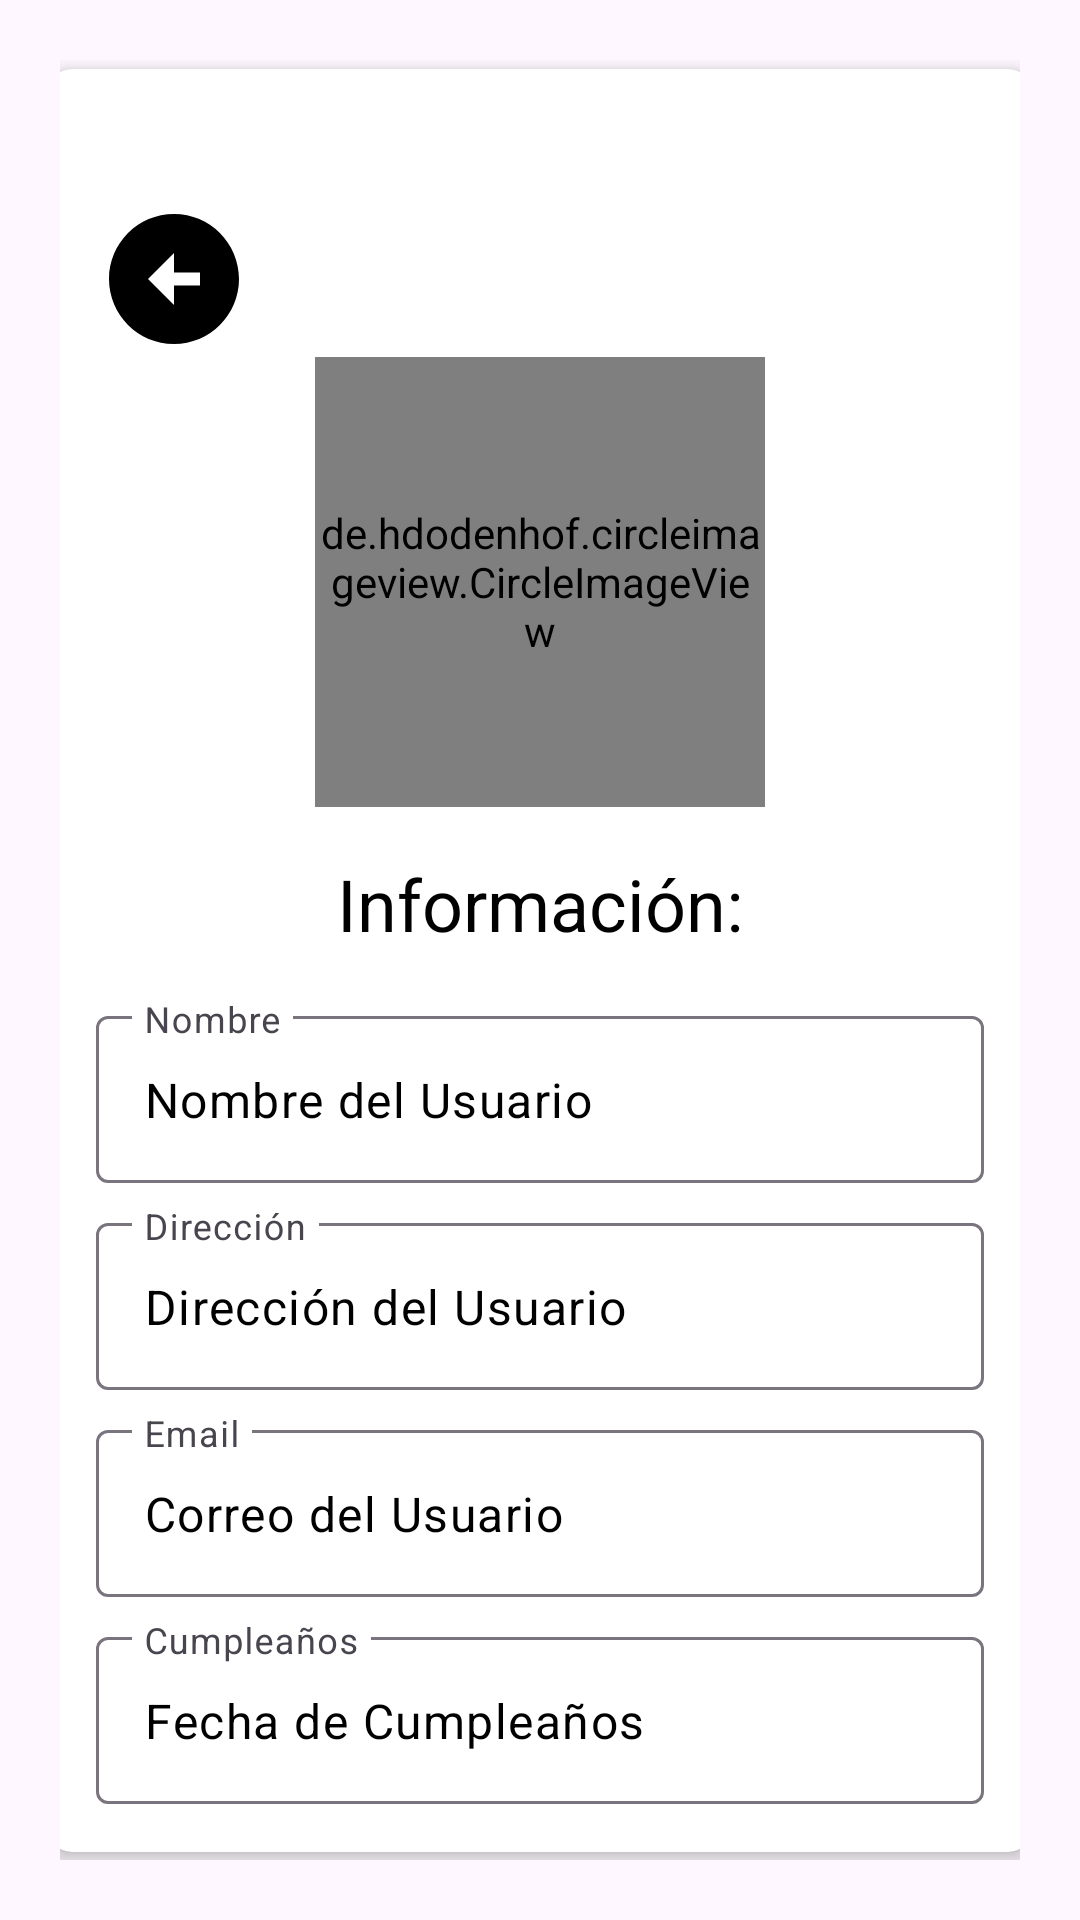

Where icons sit on this 1080px x 1920px app screen, as (x1, y1, x2, y2):
Botón para regresar: (109, 214, 239, 344)
